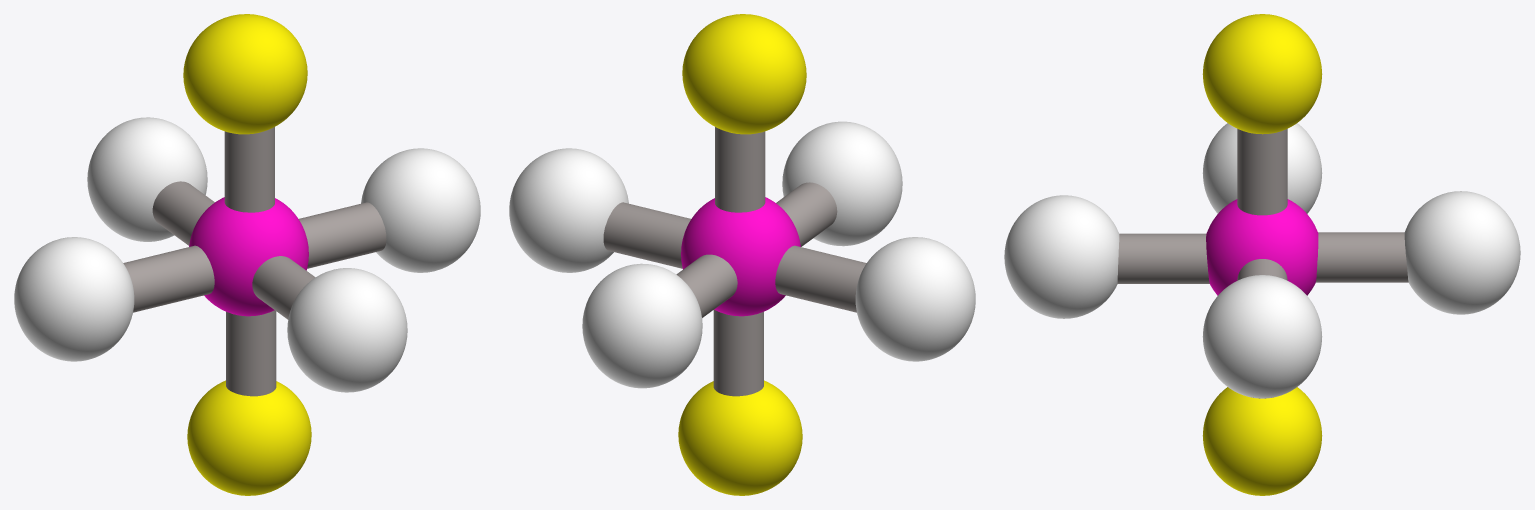
Rendered from squareplanarbond.fbx.
The picture shows the model from 3 angles, left to right: view 1: azimuth 30°, elevation 25°; view 2: azimuth 150°, elevation 25°; view 3: azimuth 270°, elevation 25°; orthographic projection.
Visible parts, largest first — view 1: root (×16); view 2: root (×16); view 3: root (×12).
Part boxes in pixels (left/top/right/bottom): root (×16): left=14, top=14, right=480, bottom=495; root (×16): left=509, top=14, right=975, bottom=495; root (×12): left=1004, top=14, right=1520, bottom=495.
Bounding box in the file's own units: 0.6641 × 0.6641 × 0.6641.
7 materials, 7 textured.
